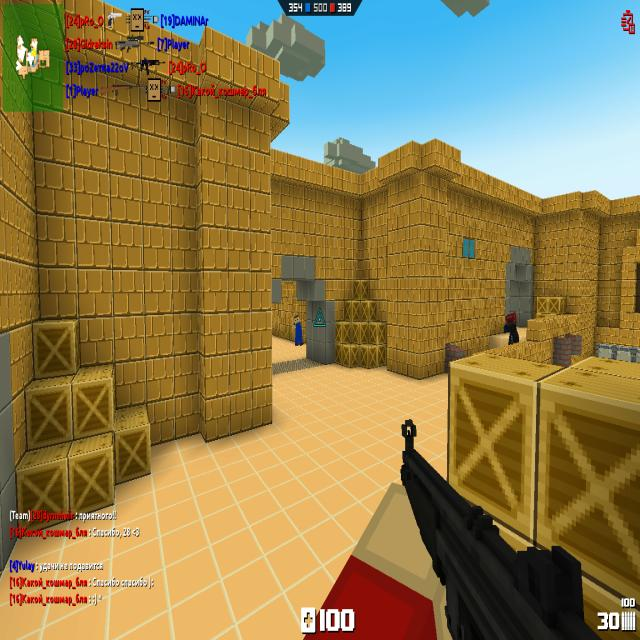enemy: (504, 312, 519, 345), (294, 314, 304, 346)
